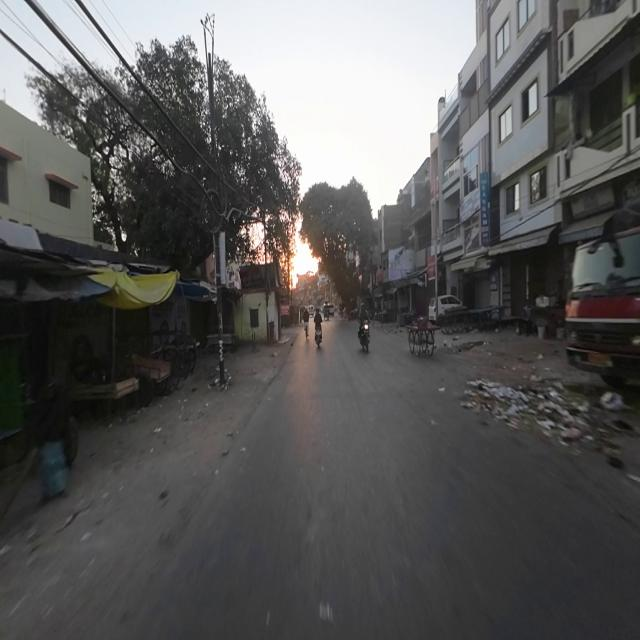Garbage: (472, 374, 628, 440)
